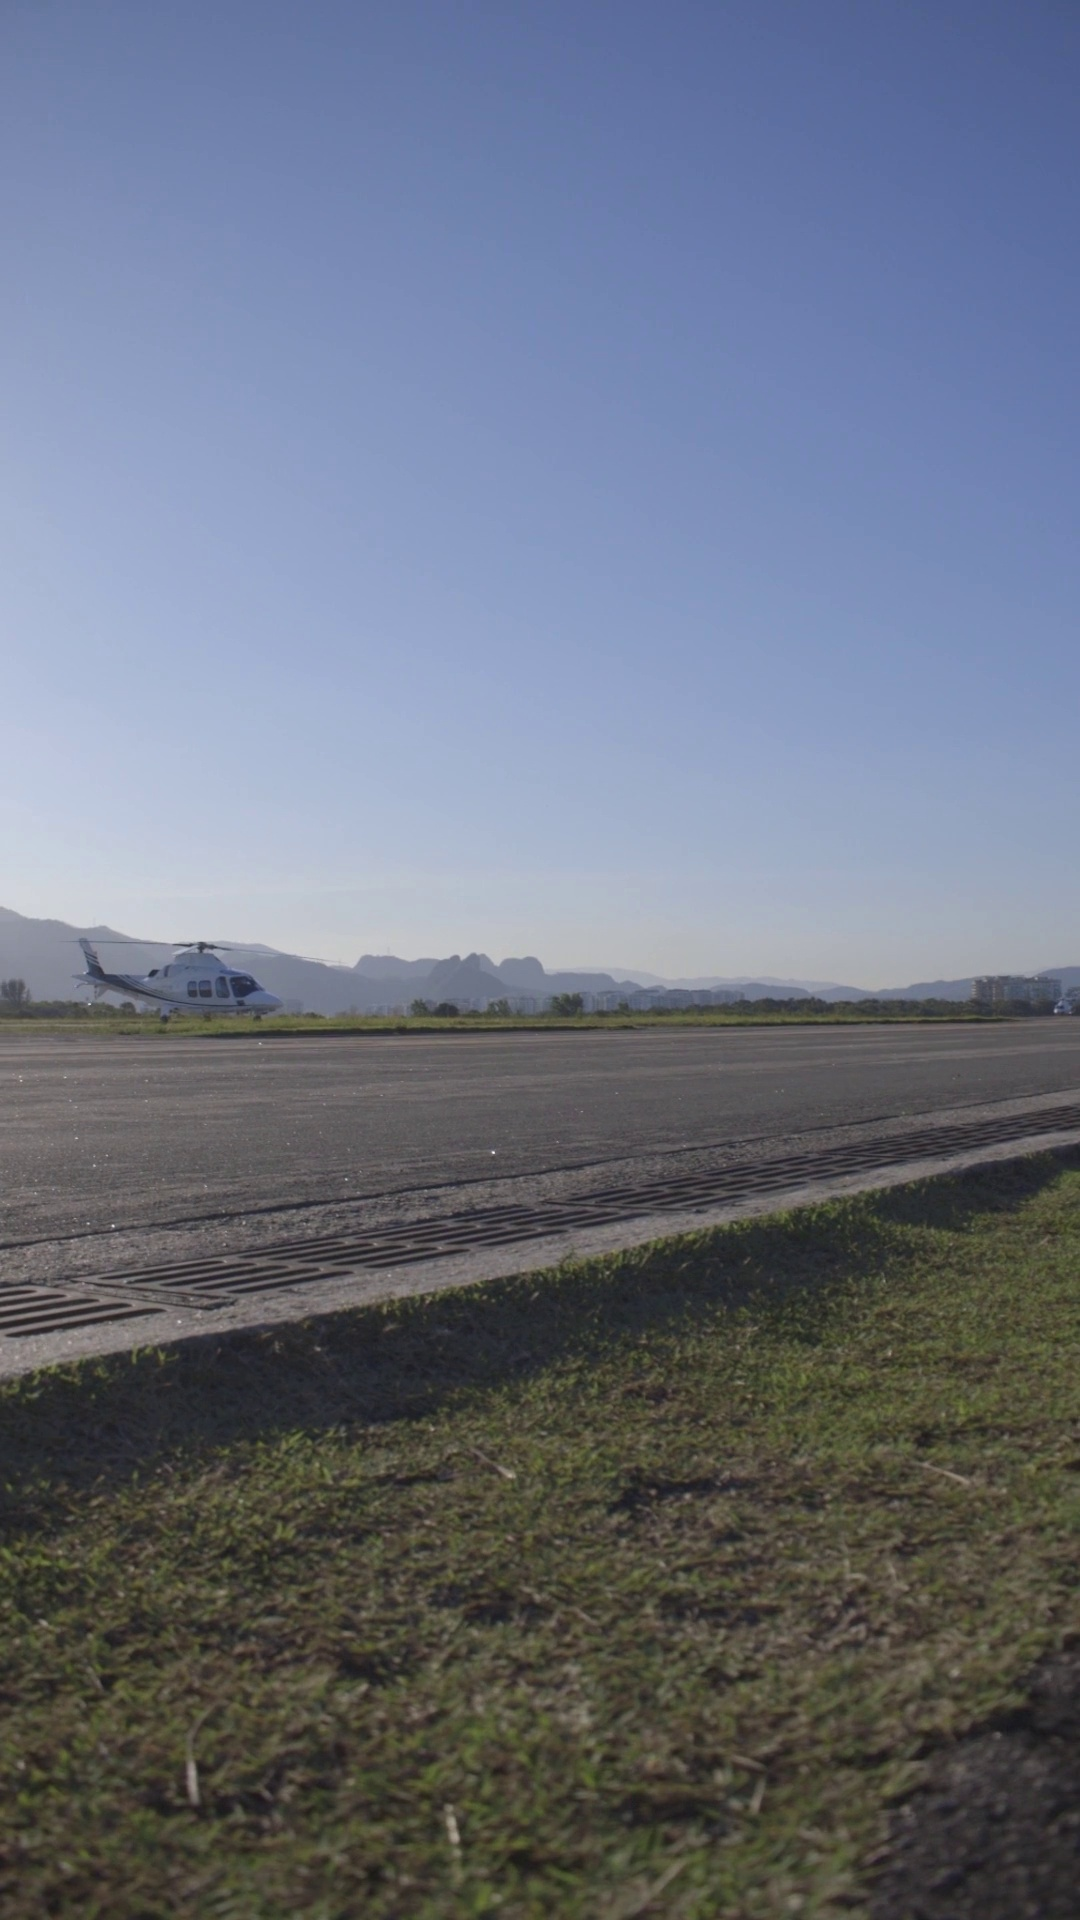heli: (73, 932, 285, 1029)
